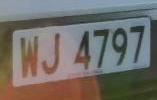4: (72, 27, 94, 75)
7: (90, 26, 112, 73), (127, 21, 146, 66)
9: (110, 24, 130, 70)
J: (40, 29, 66, 79)
W: (17, 30, 43, 86)
